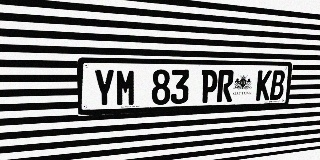3: (170, 69, 189, 104)
8: (151, 69, 171, 105)
B: (269, 70, 286, 100)
K: (255, 70, 272, 101)
M: (116, 69, 136, 106)
P: (200, 70, 218, 103)
R: (217, 70, 234, 102)
Y: (93, 69, 115, 107)
